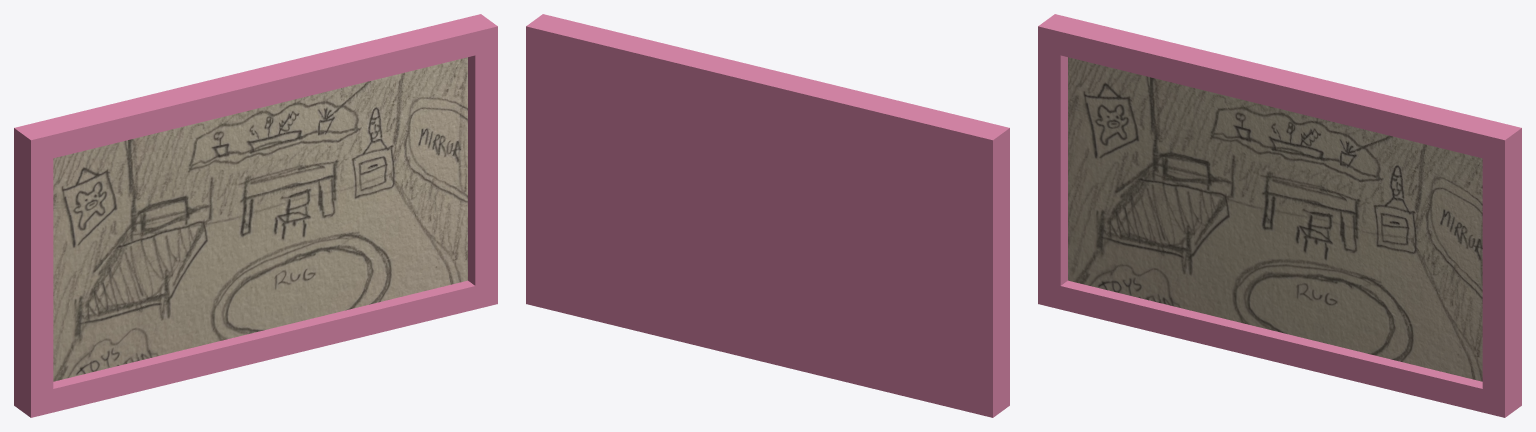
The model's file is RachelsFirstPictureFrame.glb.
3 views of the same model, side by side, from view 1: azimuth 30°, elevation 25°; view 2: azimuth 150°, elevation 25°; view 3: azimuth 330°, elevation 25° (orthographic).
Parts seen in each view (by area): view 1: Cube.001; view 2: Cube.001; view 3: Cube.001.
Boxes of the visible parts, x1=… form: Cube.001: x1=14, y1=14, x2=497, y2=417; Cube.001: x1=526, y1=14, x2=1009, y2=417; Cube.001: x1=1038, y1=14, x2=1521, y2=417.
Bounding box in the file's own units: 0.656 × 0.3728 × 0.0412.
2 materials, 1 textured.
